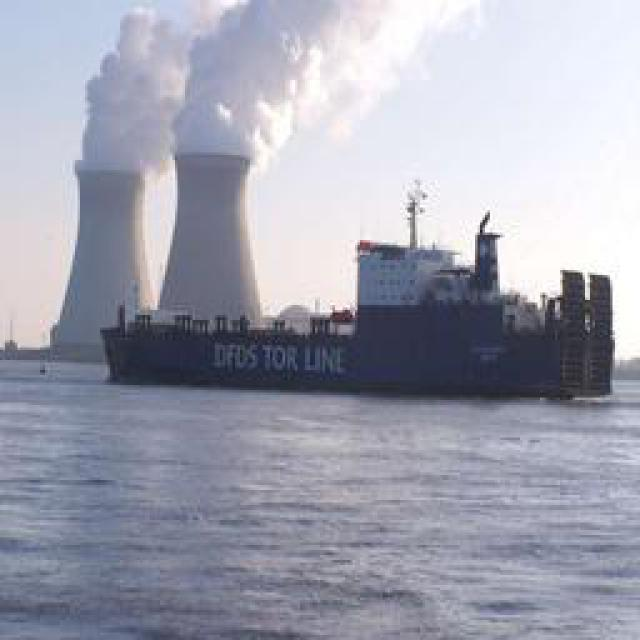Ship: (101, 188, 624, 406)
